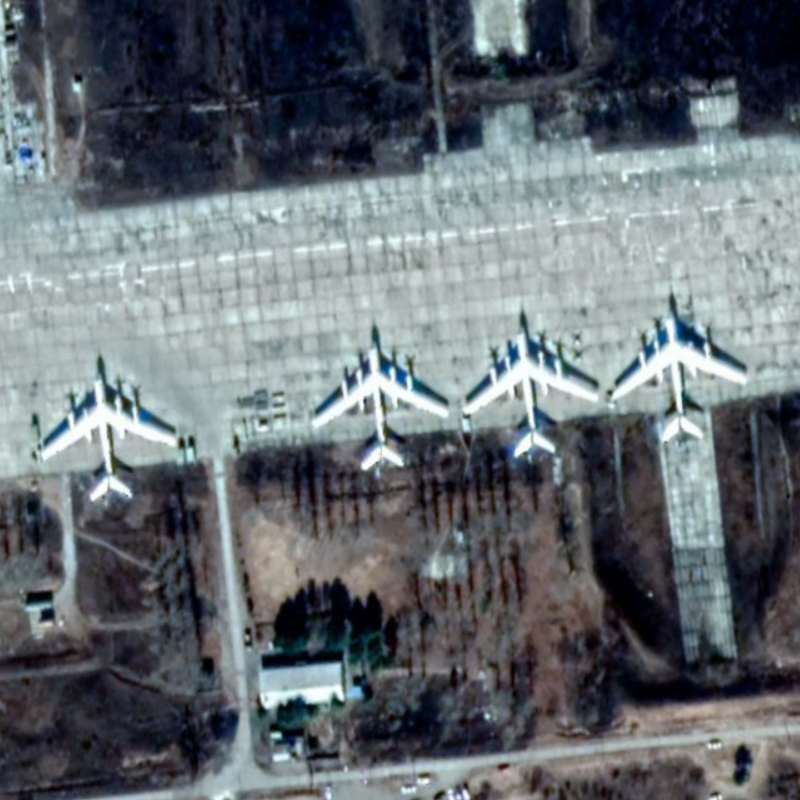A17: (609, 306, 750, 444), (460, 323, 601, 460), (38, 370, 181, 505), (310, 338, 452, 472)
